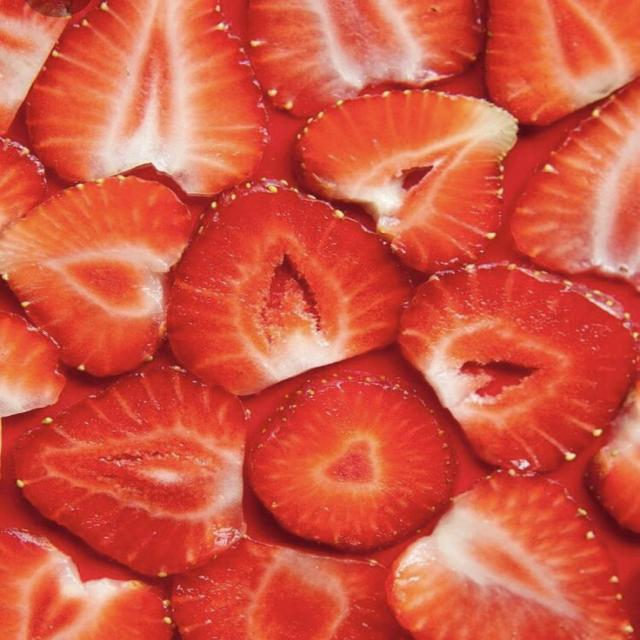strawberry sliced: (168, 181, 411, 394), (400, 265, 634, 470), (15, 369, 245, 574), (27, 0, 266, 193), (389, 472, 633, 639), (298, 91, 516, 271), (247, 370, 455, 551), (0, 178, 191, 375), (249, 0, 482, 115), (512, 81, 639, 287), (172, 540, 404, 639), (487, 0, 639, 124), (0, 530, 172, 639), (0, 0, 68, 133), (590, 384, 639, 532), (0, 312, 65, 416), (0, 139, 46, 230)
